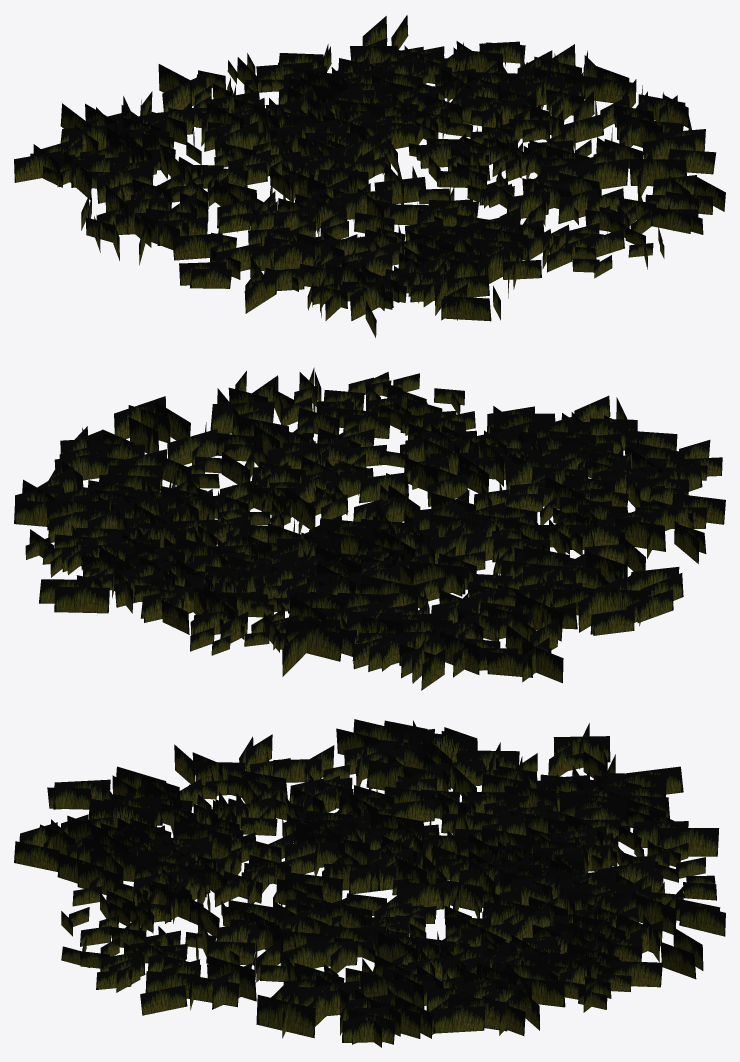
File: grass5.glb
The picture shows the model from 3 angles, top to bottom: view 1: azimuth 30°, elevation 25°; view 2: azimuth 150°, elevation 25°; view 3: azimuth 270°, elevation 25°; orthographic projection. The views are drawn at different scales.
Parts seen in each view (by area): view 1: Object_140; view 2: Object_140; view 3: Object_140.
Part boxes in pixels (x1,y1,x2,y2): Object_140: (14, 15, 725, 337); Object_140: (14, 367, 725, 690); Object_140: (14, 719, 725, 1047).
Size of the model in its own units: 18.51 by 1.04 by 18.27.
1 material, 1 textured.
